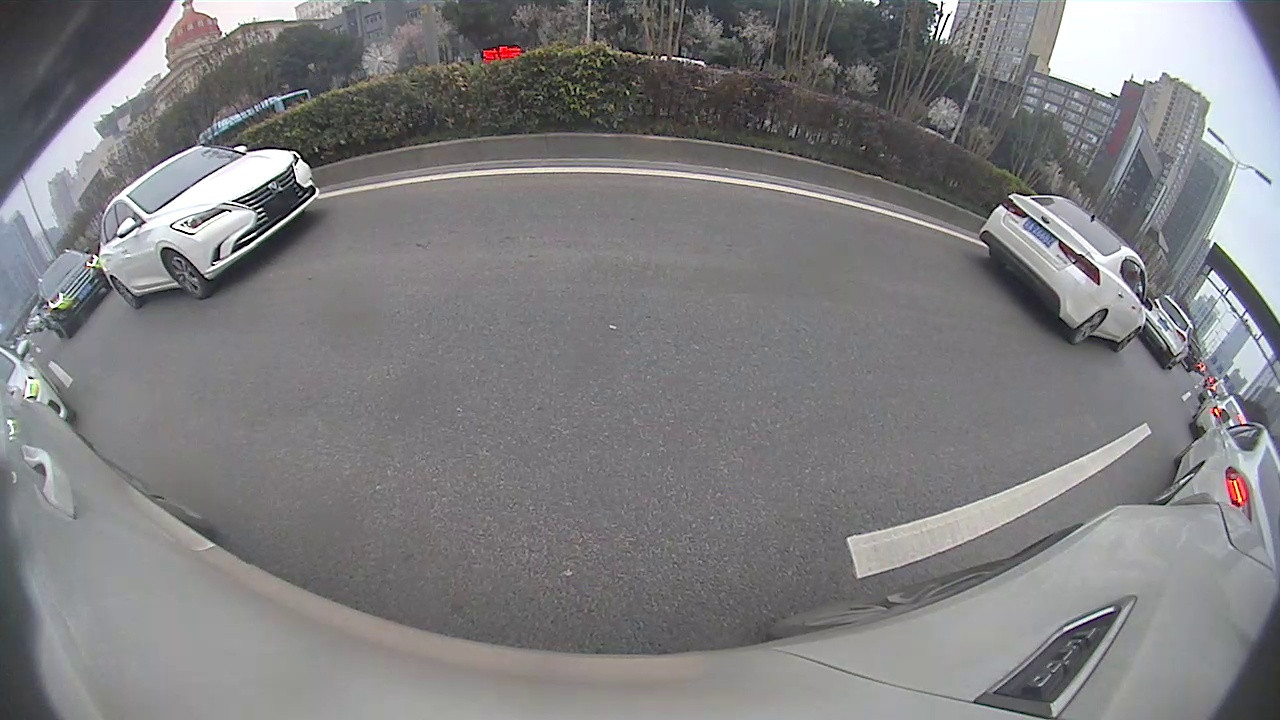car: (96, 142, 321, 310), (975, 191, 1154, 355), (1148, 407, 1278, 557), (35, 247, 108, 340), (1141, 293, 1195, 372)
front: (164, 249, 208, 301), (1115, 330, 1136, 352)
rear: (1073, 308, 1108, 346), (111, 274, 139, 308)
